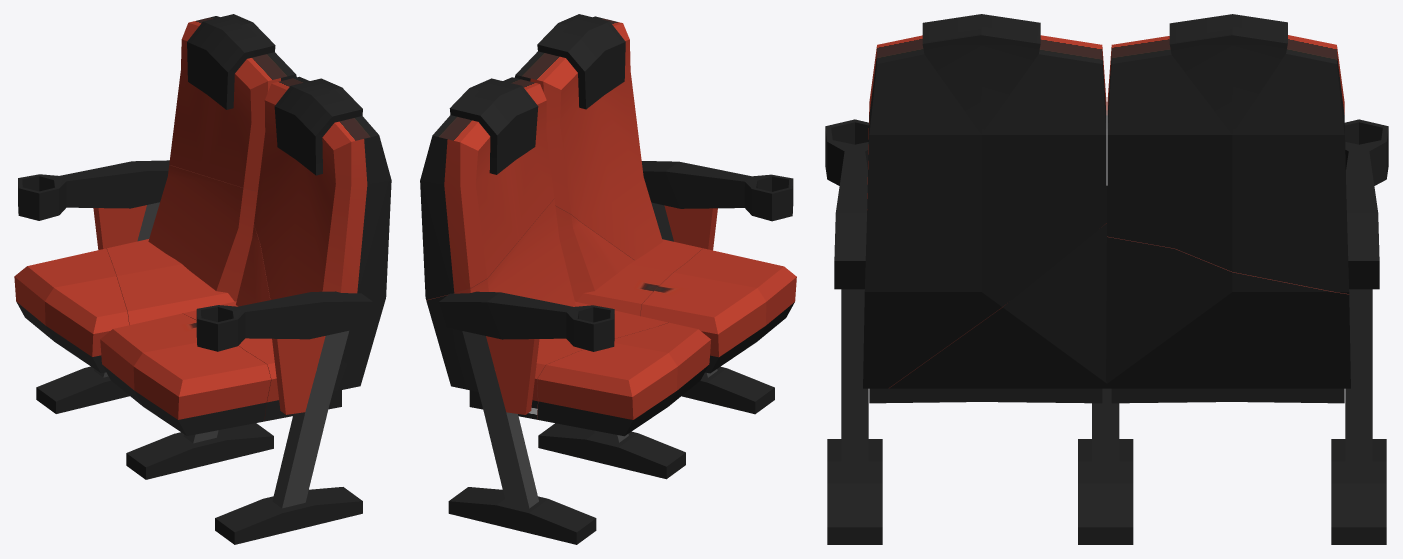
File: Couple_Chair_Dest.fbx
3 renders of one model, left to right at view 1: azimuth 30°, elevation 25°; view 2: azimuth 150°, elevation 25°; view 3: azimuth 270°, elevation 25°, orthographic. The views are drawn at different scales.
Visible parts, largest first — view 1: polySurface1414.005_cell.001, polySurface1414.009_cell.001, polySurface1414.004_cell.001, polySurface1414.009_cell, polySurface1414_cell.001, polySurface1414.002, polySurface1414.001, polySurface1414_cell, polySurface1414.006, polySurface1414.003, polySurface1414.008, polySurface1414.012 (+5 smaller); view 2: polySurface1414.009_cell.001, polySurface1414.005_cell.001, polySurface1414_cell.001, polySurface1414.004_cell.001, polySurface1414.009_cell, polySurface1414.001, polySurface1414.002, polySurface1414.010, polySurface1414.007, polySurface1414.008, polySurface1414.004_cell, polySurface1414.005_cell (+5 smaller); view 3: polySurface1414.005_cell.001, polySurface1414.009_cell.001, polySurface1414.009_cell, polySurface1414.005_cell, polySurface1414.001, polySurface1414.002, polySurface1414.006, polySurface1414.010, polySurface1414.003, polySurface1414.007, polySurface1414.008, polySurface1414_cell (+2 smaller).
Part boxes in pixels (left/top/right/bottom): polySurface1414.005_cell.001: left=254, top=76, right=391, bottom=391; polySurface1414.009_cell.001: left=169, top=14, right=296, bottom=191; polySurface1414.004_cell.001: left=100, top=313, right=271, bottom=435; polySurface1414.009_cell: left=148, top=165, right=257, bottom=301; polySurface1414_cell.001: left=14, top=248, right=128, bottom=373; polySurface1414.002: left=196, top=291, right=372, bottom=351; polySurface1414.001: left=18, top=160, right=169, bottom=220; polySurface1414_cell: left=106, top=239, right=234, bottom=325; polySurface1414.006: left=272, top=331, right=348, bottom=508; polySurface1414.003: left=215, top=487, right=362, bottom=544; polySurface1414.008: left=126, top=423, right=273, bottom=479; polySurface1414.012: left=272, top=336, right=325, bottom=414; polySurface1414.009_cell.001: left=420, top=77, right=554, bottom=299; polySurface1414.005_cell.001: left=514, top=14, right=662, bottom=260; polySurface1414_cell.001: left=537, top=322, right=710, bottom=436; polySurface1414.004_cell.001: left=640, top=248, right=796, bottom=373; polySurface1414.009_cell: left=426, top=199, right=575, bottom=391; polySurface1414.001: left=439, top=291, right=614, bottom=351; polySurface1414.002: left=641, top=161, right=793, bottom=221; polySurface1414.010: left=462, top=331, right=538, bottom=508; polySurface1414.007: left=448, top=487, right=596, bottom=544; polySurface1414.008: left=538, top=423, right=685, bottom=479; polySurface1414.004_cell: left=577, top=239, right=702, bottom=315; polySurface1414.005_cell: left=555, top=206, right=634, bottom=301; polySurface1414.005_cell.001: left=863, top=14, right=1106, bottom=388; polySurface1414.009_cell.001: left=1107, top=14, right=1349, bottom=293; polySurface1414.009_cell: left=1106, top=236, right=1350, bottom=388; polySurface1414.005_cell: left=889, top=223, right=1106, bottom=388; polySurface1414.001: left=1344, top=119, right=1388, bottom=289; polySurface1414.002: left=825, top=119, right=868, bottom=289; polySurface1414.006: left=841, top=289, right=868, bottom=480; polySurface1414.010: left=1345, top=289, right=1372, bottom=480; polySurface1414.003: left=827, top=439, right=882, bottom=544; polySurface1414.007: left=1331, top=439, right=1386, bottom=544; polySurface1414.008: left=1078, top=439, right=1133, bottom=544; polySurface1414_cell: left=1111, top=388, right=1344, bottom=403.
Size of the model in its own units: 155 by 257 by 246.
2 materials, 1 textured.
